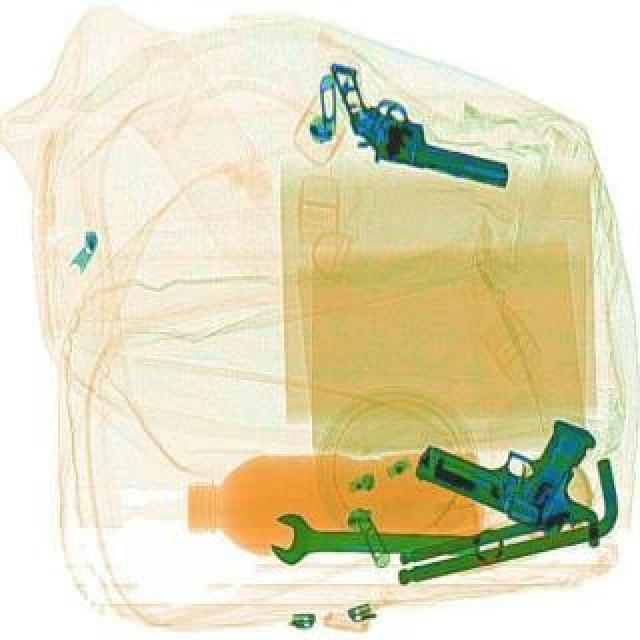gun: (408, 370, 638, 552), (300, 58, 528, 200)
scissors: (268, 508, 504, 574)
